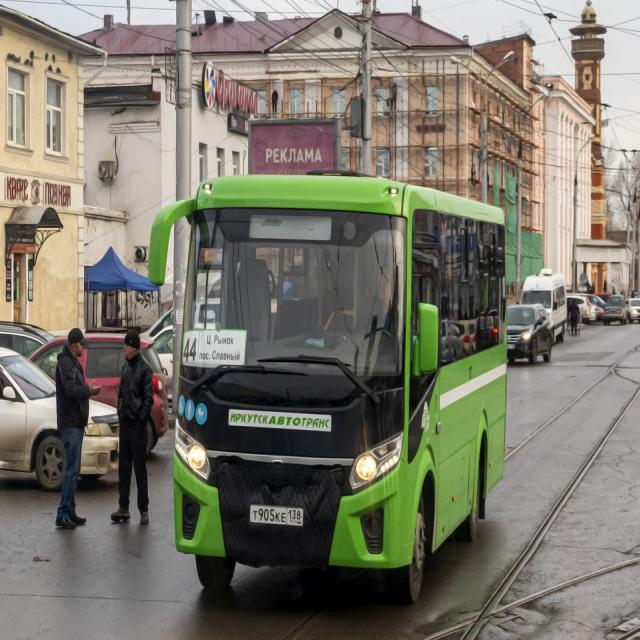number-of-bus: (184, 334, 200, 367)
